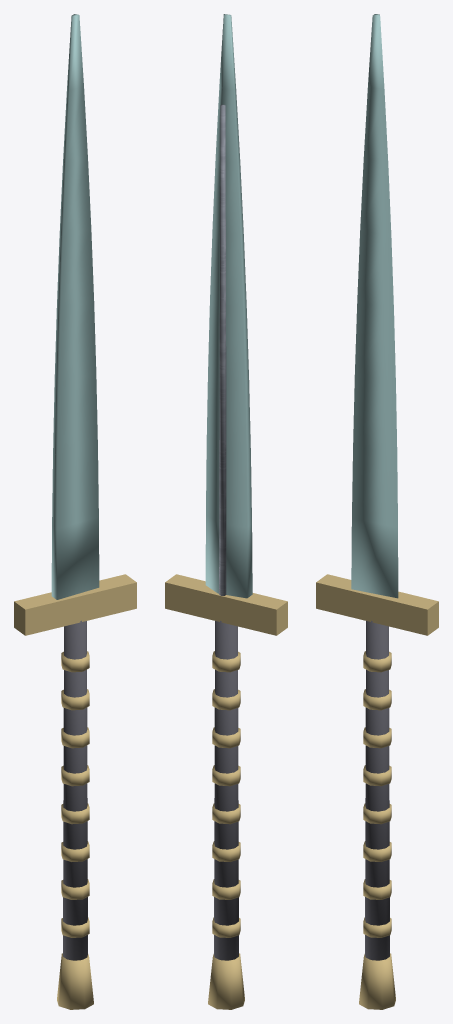
The model's file is w_marsh_blade.glb.
3 views of the same model, side by side, from view 1: azimuth 30°, elevation 25°; view 2: azimuth 150°, elevation 25°; view 3: azimuth 330°, elevation 25° (orthographic).
Visible parts, largest first — view 1: w_marsh_blade; view 2: w_marsh_blade; view 3: w_marsh_blade.
Boxes of the visible parts, box(x1,y1,x2,y2) form: w_marsh_blade: box(14, 14, 136, 1009); w_marsh_blade: box(165, 14, 287, 1009); w_marsh_blade: box(316, 14, 438, 1009).
Size of the model in its own units: 0.2 by 1.69 by 0.06.
4 materials, 1 textured.
